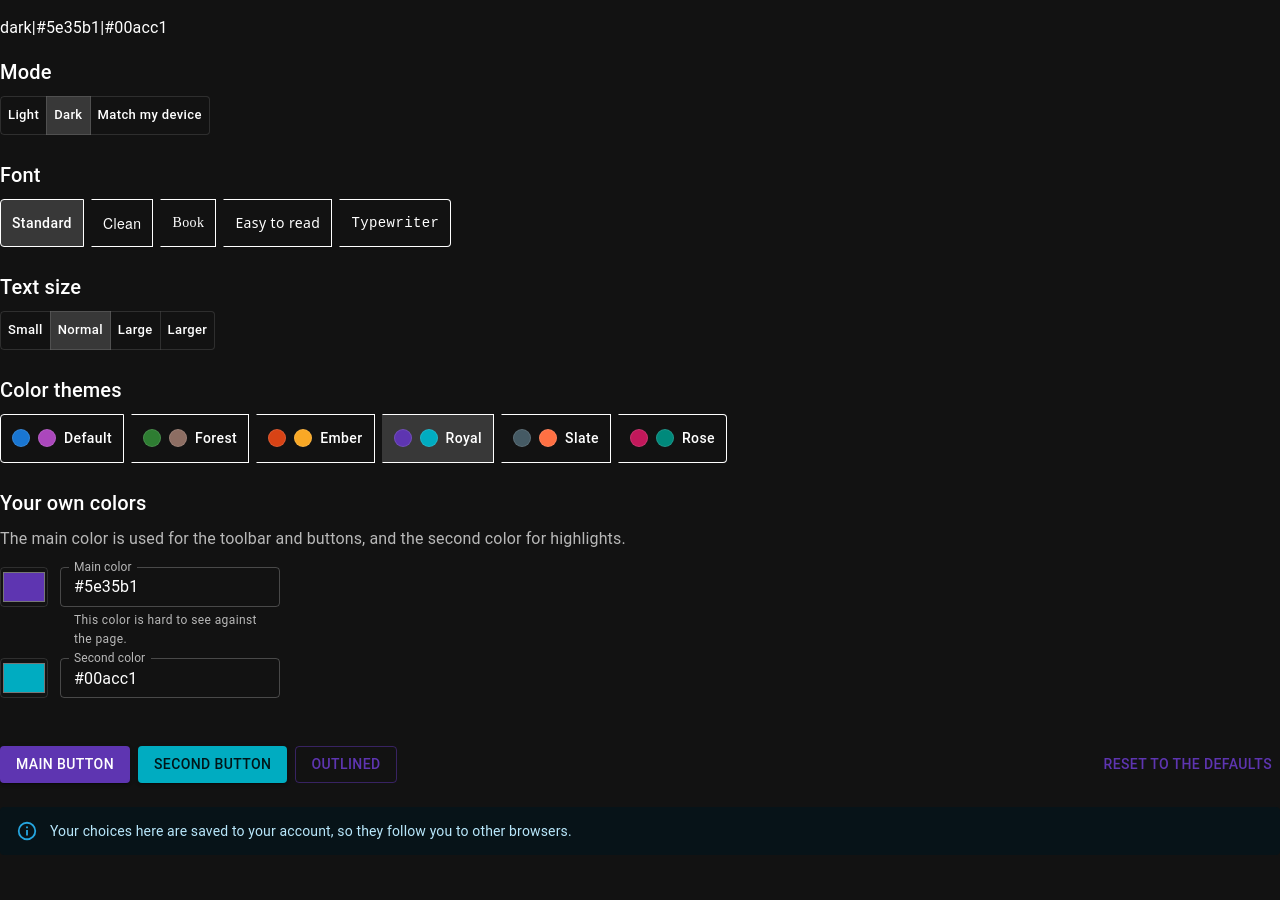
Test: resetting › goes back to the default colors and mode
This screenshot has width=1280, height=900.
Click the button "Reset to the defaults" at (1188, 764), box [1096, 746, 1279, 783]
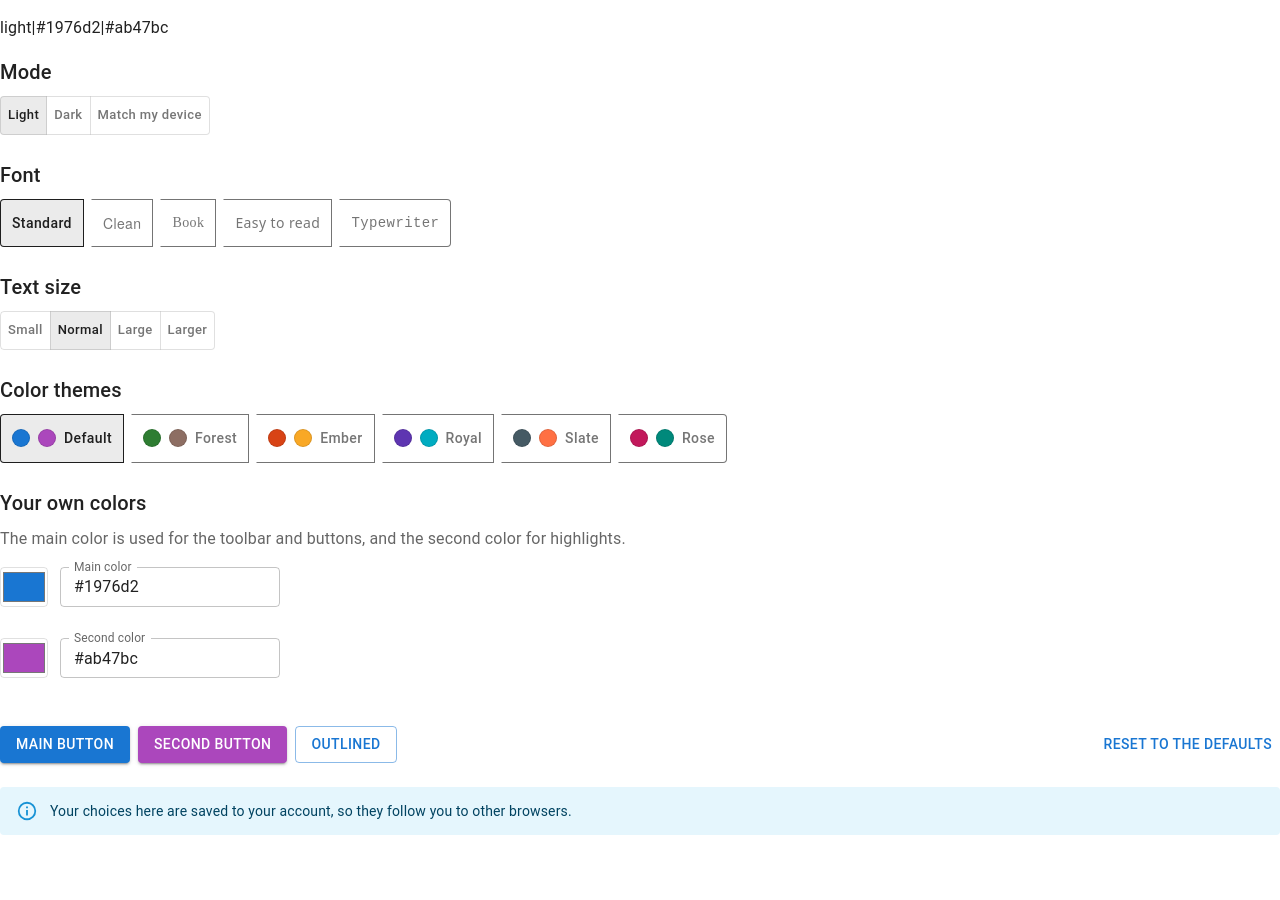
Expected: the text with test id "probe" reads "light|#1976d2|#ab47bc", [0, 18, 32, 37]
Expected: the field labelled "Main color" holds "#1976d2", [60, 566, 280, 606]
